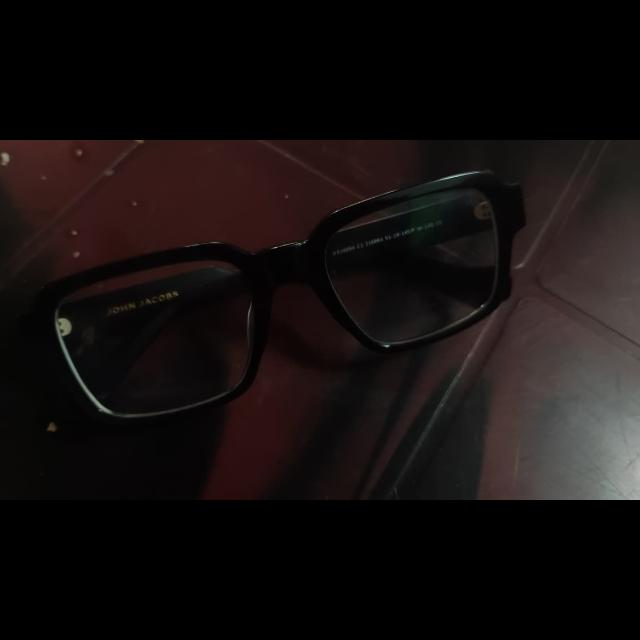glasses: (42, 169, 514, 421)
